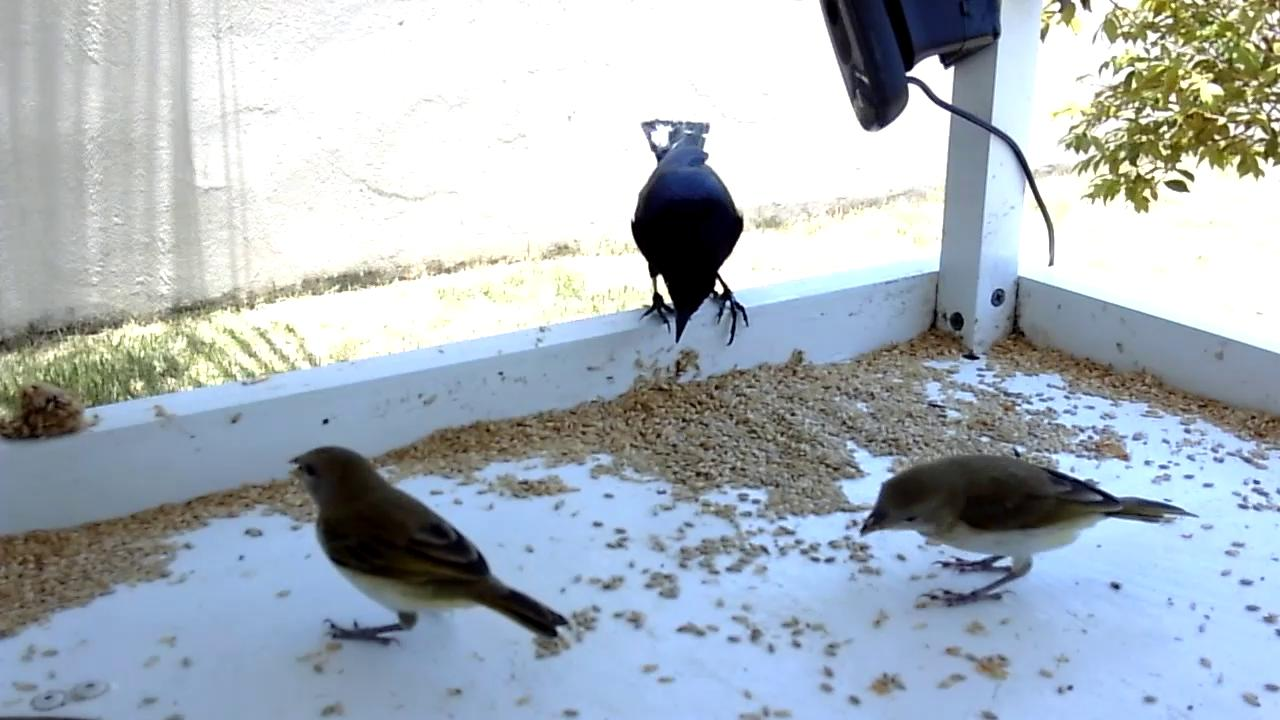canario_do_amazonas: (286, 444, 571, 652), (857, 451, 1204, 615)
chupim: (630, 116, 754, 353)
